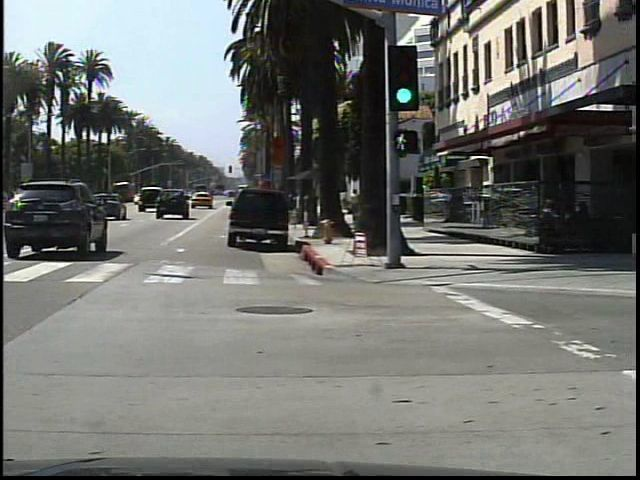person: (350, 184, 363, 226)
